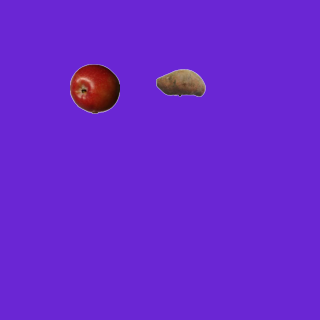Apple Braeburn: (69, 63, 119, 113)
Potato Sweet: (155, 57, 205, 107)
